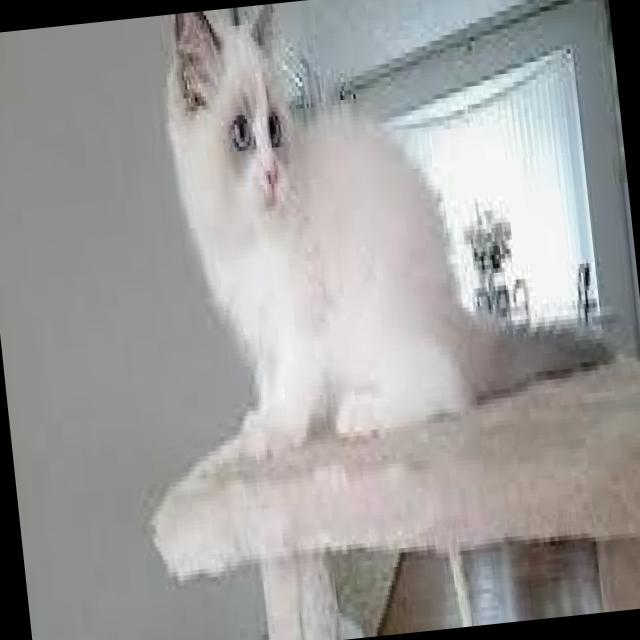Gato: (149, 0, 621, 478)
